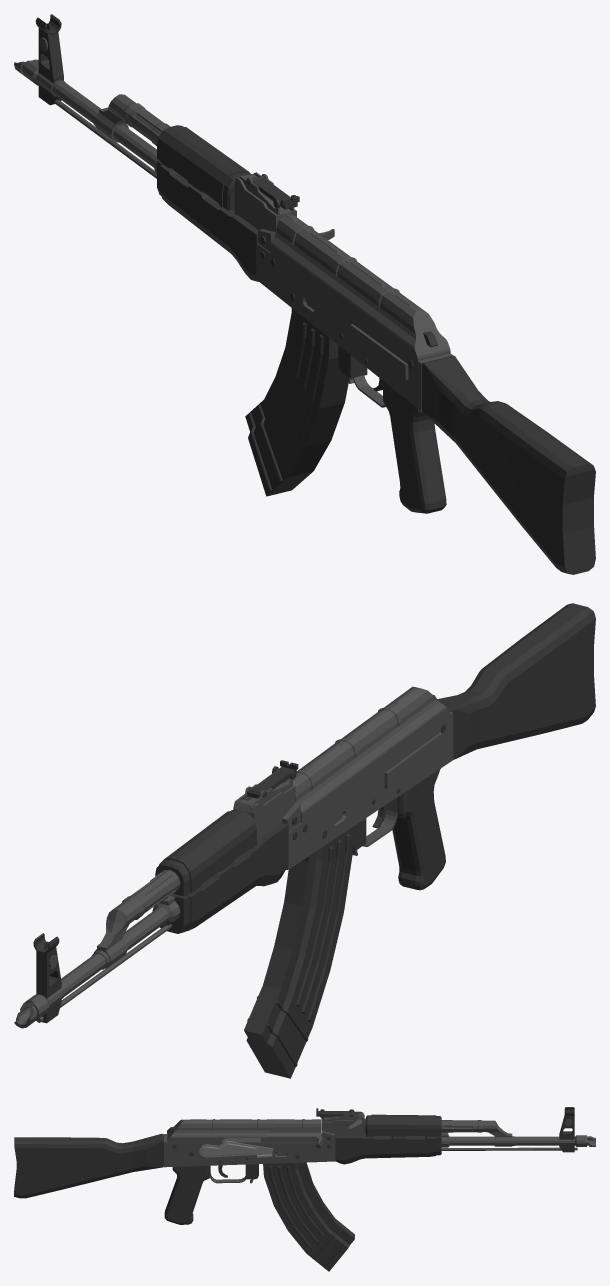
3 views of the same model, one above another, from view 1: azimuth 30°, elevation 25°; view 2: azimuth 150°, elevation 25°; view 3: azimuth 270°, elevation 25° (orthographic). The views are drawn at different scales.
Visible parts, largest first — view 1: AK74, Mag; view 2: AK74, Mag; view 3: AK74, Mag, Bolt.
Boxes of the visible parts, bbox=[...] form: AK74: bbox=[14, 14, 595, 574]; Mag: bbox=[245, 308, 348, 496]; AK74: bbox=[14, 603, 595, 1028]; Mag: bbox=[244, 826, 354, 1078]; AK74: bbox=[14, 1107, 595, 1224]; Mag: bbox=[263, 1162, 354, 1271]; Bolt: bbox=[261, 1127, 322, 1149].
Size of the model in its own units: 5.28 by 23.35 by 77.07.
Materials: 1 (1 with a texture image).
